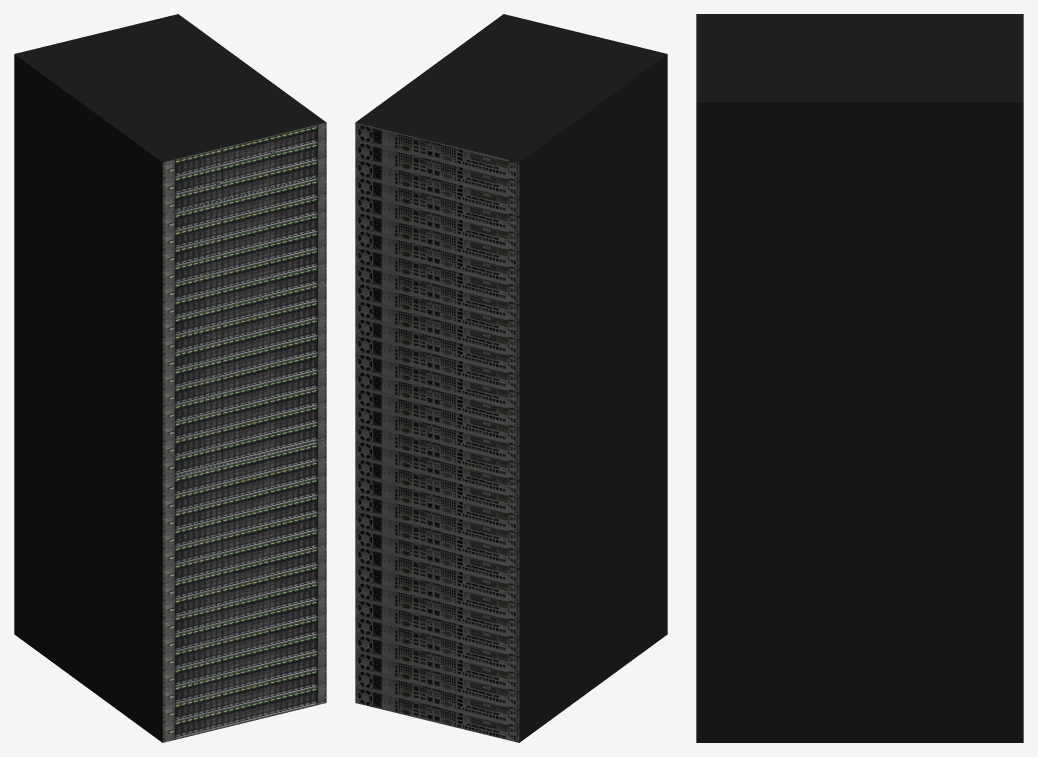
Rendered from CDR33.fbx.
3 views of the same model, side by side, from view 1: azimuth 30°, elevation 25°; view 2: azimuth 150°, elevation 25°; view 3: azimuth 270°, elevation 25° (orthographic). The views are drawn at different scales.
Visible parts, largest first — view 1: CDR33; view 2: CDR33; view 3: CDR33.
Boxes of the visible parts, <box> form: CDR33: <box>14,14,326,742</box>; CDR33: <box>355,14,667,742</box>; CDR33: <box>696,14,1023,742</box>.
Size of the model in its own units: 434 by 1468 by 680.
Materials: 3 (2 with a texture image).
